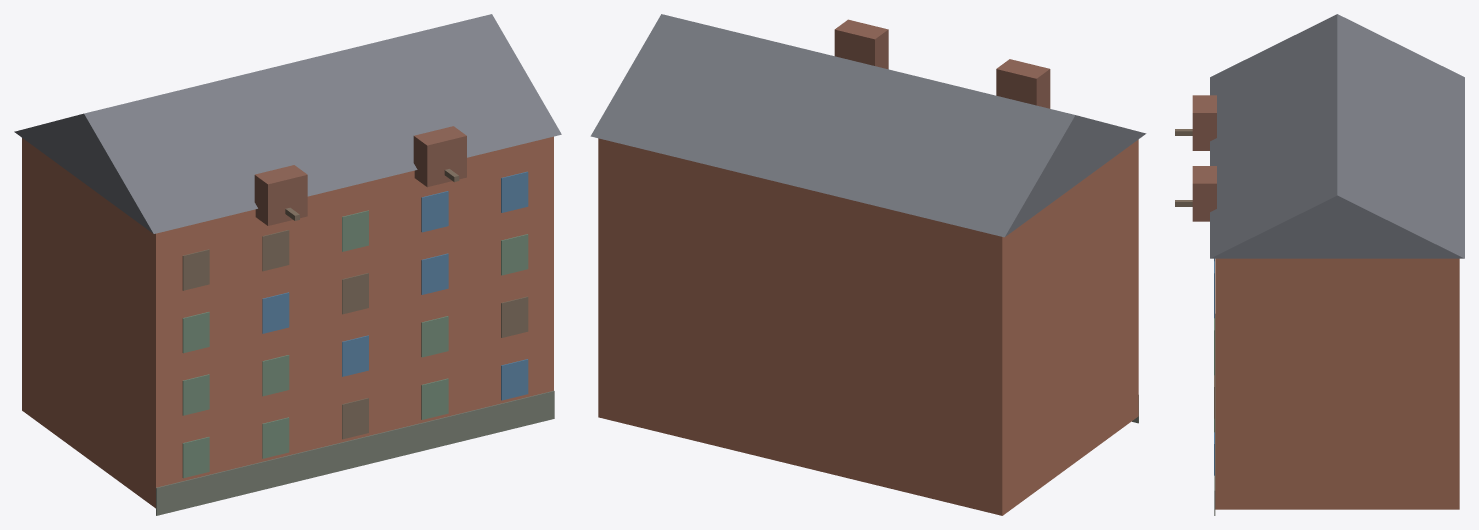
Rendered from PortWarehouse.glb.
The picture shows the model from 3 angles, left to right: view 1: azimuth 30°, elevation 25°; view 2: azimuth 150°, elevation 25°; view 3: azimuth 270°, elevation 25°; orthographic projection. The views are drawn at different scales.
Parts seen in each view (by area): view 1: Warehouse, Warehouse roof, Water stain.011, Hoist gable, Hoist gable.001, Shutter.012, Shutter.014, Shutter.016, Shutter.018, Shutter.013, Shutter.015, Shutter.017 (+13 smaller); view 2: Warehouse, Warehouse roof, Hoist gable, Hoist gable.001; view 3: Warehouse, Warehouse roof, Hoist gable, Hoist gable.001.
Part boxes in pixels (<box>): Warehouse: <box>22,136,553,508</box>; Warehouse roof: <box>14,14,561,233</box>; Water stain.011: <box>156,390,554,515</box>; Hoist gable: <box>254,165,307,225</box>; Hoist gable.001: <box>413,126,466,187</box>; Shutter.012: <box>421,378,448,419</box>; Shutter.014: <box>421,253,448,294</box>; Shutter.016: <box>501,359,528,400</box>; Shutter.018: <box>501,234,528,275</box>; Shutter.013: <box>421,316,448,357</box>; Shutter.015: <box>421,191,448,232</box>; Shutter.017: <box>501,296,528,337</box>; Warehouse: <box>598,138,1138,515</box>; Warehouse roof: <box>590,14,1146,237</box>; Hoist gable: <box>996,59,1050,108</box>; Hoist gable.001: <box>834,19,888,69</box>; Warehouse: <box>1215,258,1459,509</box>; Warehouse roof: <box>1210,14,1464,258</box>; Hoist gable: <box>1192,95,1216,150</box>; Hoist gable.001: <box>1192,166,1216,221</box>.
Size of the model in its own units: 24.6 by 20.4 by 16.6.
